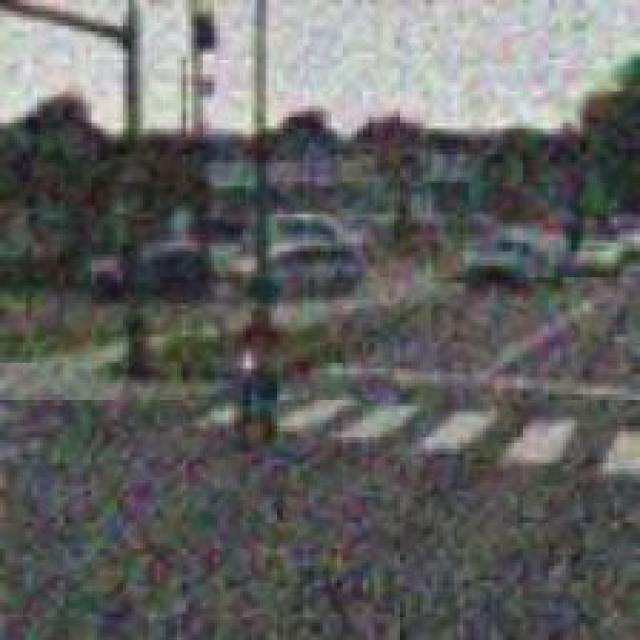walk-crossing: (252, 381, 640, 470)
